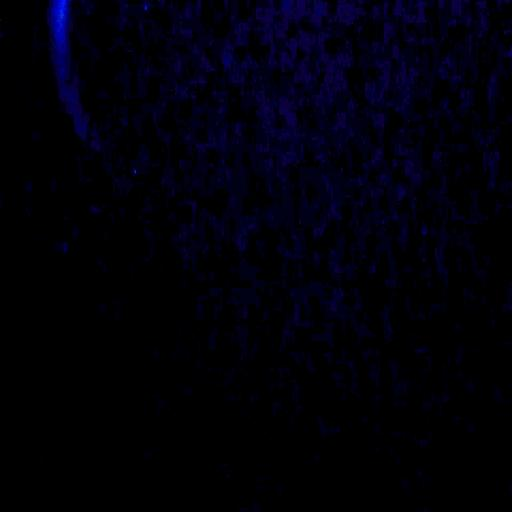object-detection-project: (50, 0, 87, 137)
